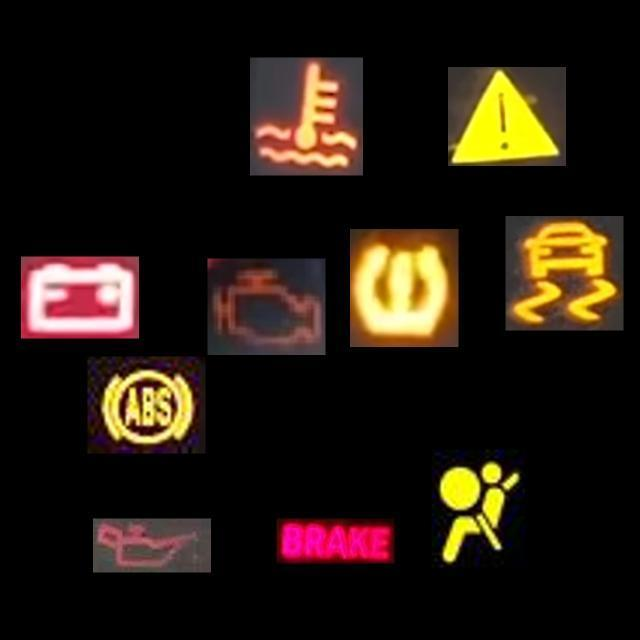Central Warning lamp: (448, 67, 566, 166)
Engine cooling system: (250, 58, 363, 176)
